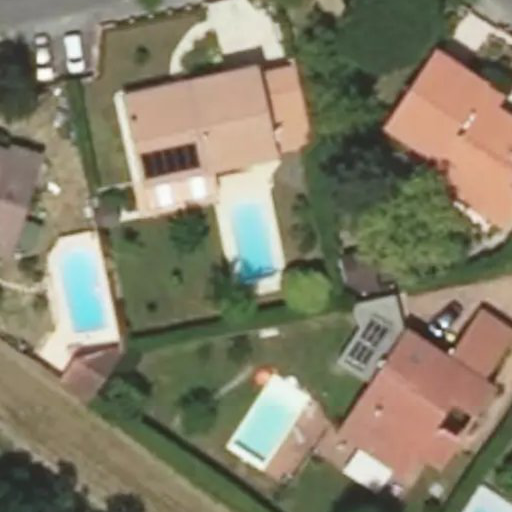pool: (232, 383, 297, 466), (229, 193, 281, 286), (58, 242, 110, 334)
